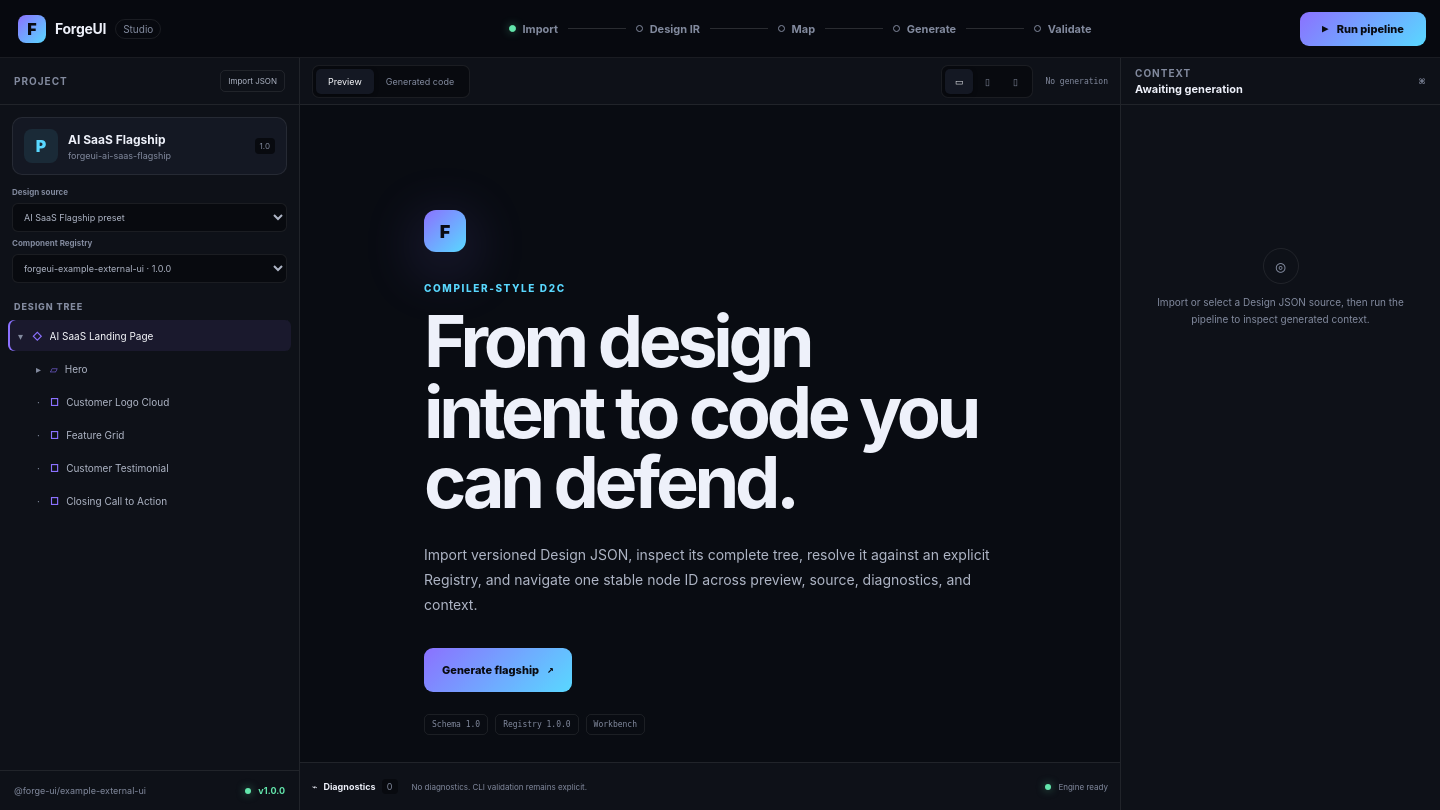
Test case: ForgeUI Studio › UI-003 disables both run controls while generation is pending
Step 1. Click the button "Generate flagship ↗" → {"x": 498, "y": 670}, box [424,648,572,692]
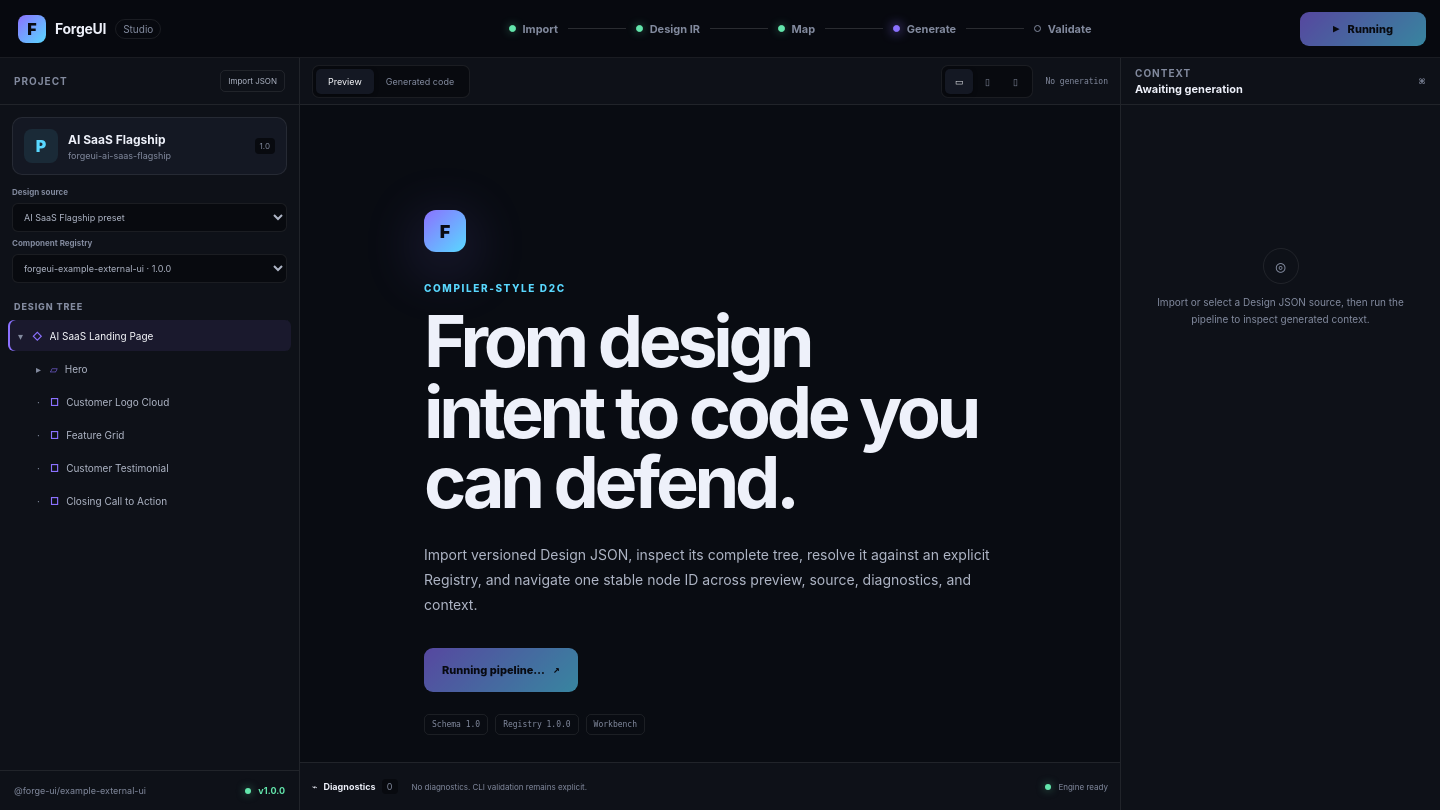
Expected: the button "Running pipeline… ↗" is disabled, [424,648,578,692]
Expected: the button "▶ Running" is disabled, [1300,12,1426,46]
Expected: the element named "Current" is shown, [893,25,900,32]
